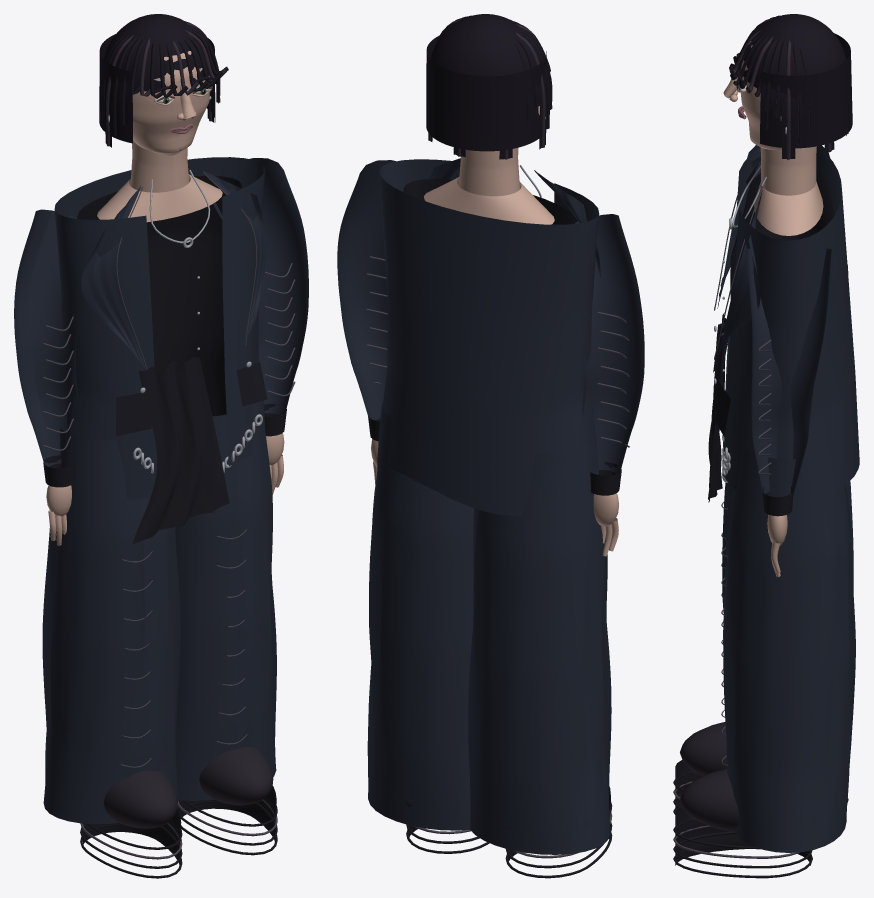
Rendered from look-9-detail.glb.
3 views of the same model, side by side, from view 1: azimuth 30°, elevation 25°; view 2: azimuth 150°, elevation 25°; view 3: azimuth 270°, elevation 25° (orthographic). The views are drawn at different scales.
Parts seen in each view (by area): view 1: look-9-detail, leg-0, leg-1, arm-0, arm-1; view 2: look-9-detail, leg-0, leg-1, arm-0, arm-1; view 3: leg-1, look-9-detail, arm-1, leg-0.
Part boxes in pixels (x1,y1,x2,y2): look-9-detail: (54, 14, 267, 543); leg-0: (42, 428, 182, 878); leg-1: (175, 400, 277, 855); arm-0: (14, 209, 83, 545); arm-1: (213, 158, 308, 494); look-9-detail: (377, 14, 600, 516); leg-0: (468, 436, 612, 878); leg-1: (367, 401, 489, 853); arm-0: (564, 214, 644, 556); arm-1: (337, 160, 395, 484); leg-1: (673, 447, 855, 878); look-9-detail: (708, 14, 859, 521); arm-1: (745, 248, 831, 577); leg-0: (673, 481, 853, 814).
Bounding box in the file's own units: 0.7546 × 2.04 × 0.4199.
